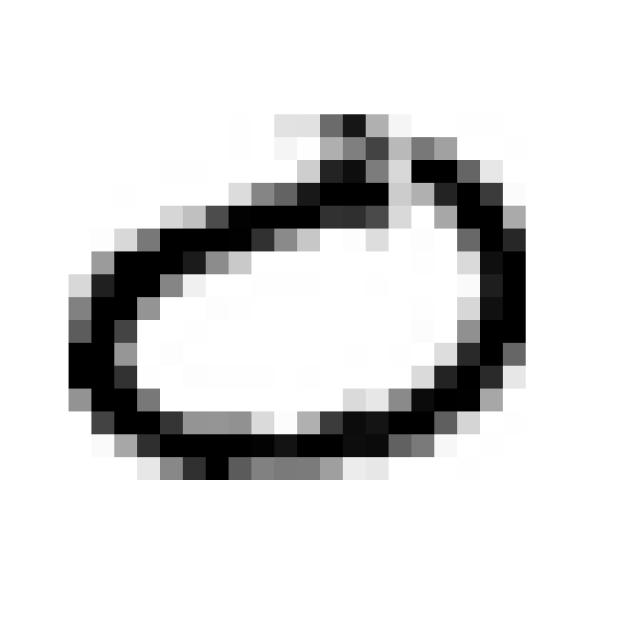5 -five-: (46, 94, 546, 492)
